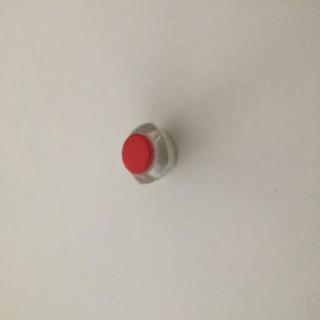Plastic-bottle: (122, 122, 179, 185)
